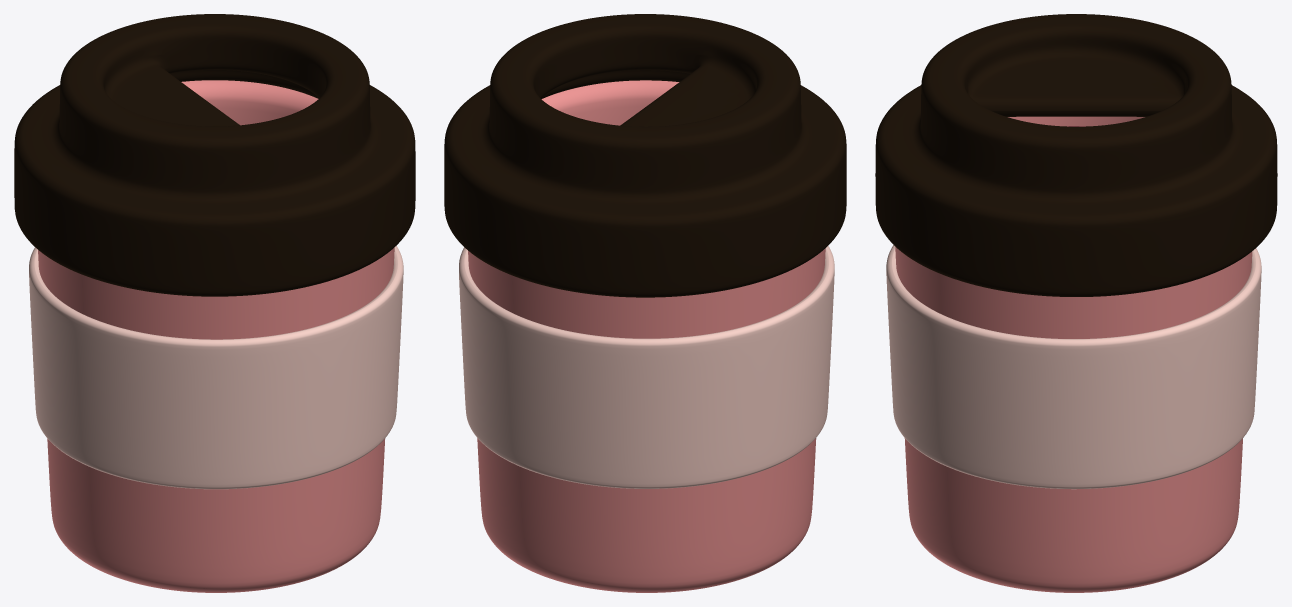
The model's file is StrawberryCup.fbx.
3 renders of one model, left to right at view 1: azimuth 30°, elevation 25°; view 2: azimuth 150°, elevation 25°; view 3: azimuth 270°, elevation 25°, orthographic.
Visible parts, largest first — view 1: StrawberryCup, StrawberryCup-Sleeve, StrawberryCup-Body; view 2: StrawberryCup, StrawberryCup-Sleeve, StrawberryCup-Body; view 3: StrawberryCup, StrawberryCup-Sleeve, StrawberryCup-Body.
Part boxes in pixels (x1=…): StrawberryCup: x1=14, y1=14, x2=415, y2=296; StrawberryCup-Sleeve: x1=29, y1=246, x2=403, y2=489; StrawberryCup-Body: x1=38, y1=80, x2=394, y2=592; StrawberryCup: x1=444, y1=14, x2=846, y2=297; StrawberryCup-Sleeve: x1=459, y1=246, x2=834, y2=488; StrawberryCup-Body: x1=468, y1=80, x2=825, y2=592; StrawberryCup: x1=875, y1=14, x2=1277, y2=296; StrawberryCup-Sleeve: x1=886, y1=245, x2=1261, y2=489; StrawberryCup-Body: x1=895, y1=116, x2=1252, y2=592.
Bounding box in the file's own units: 62.04 × 77.41 × 62.04.
